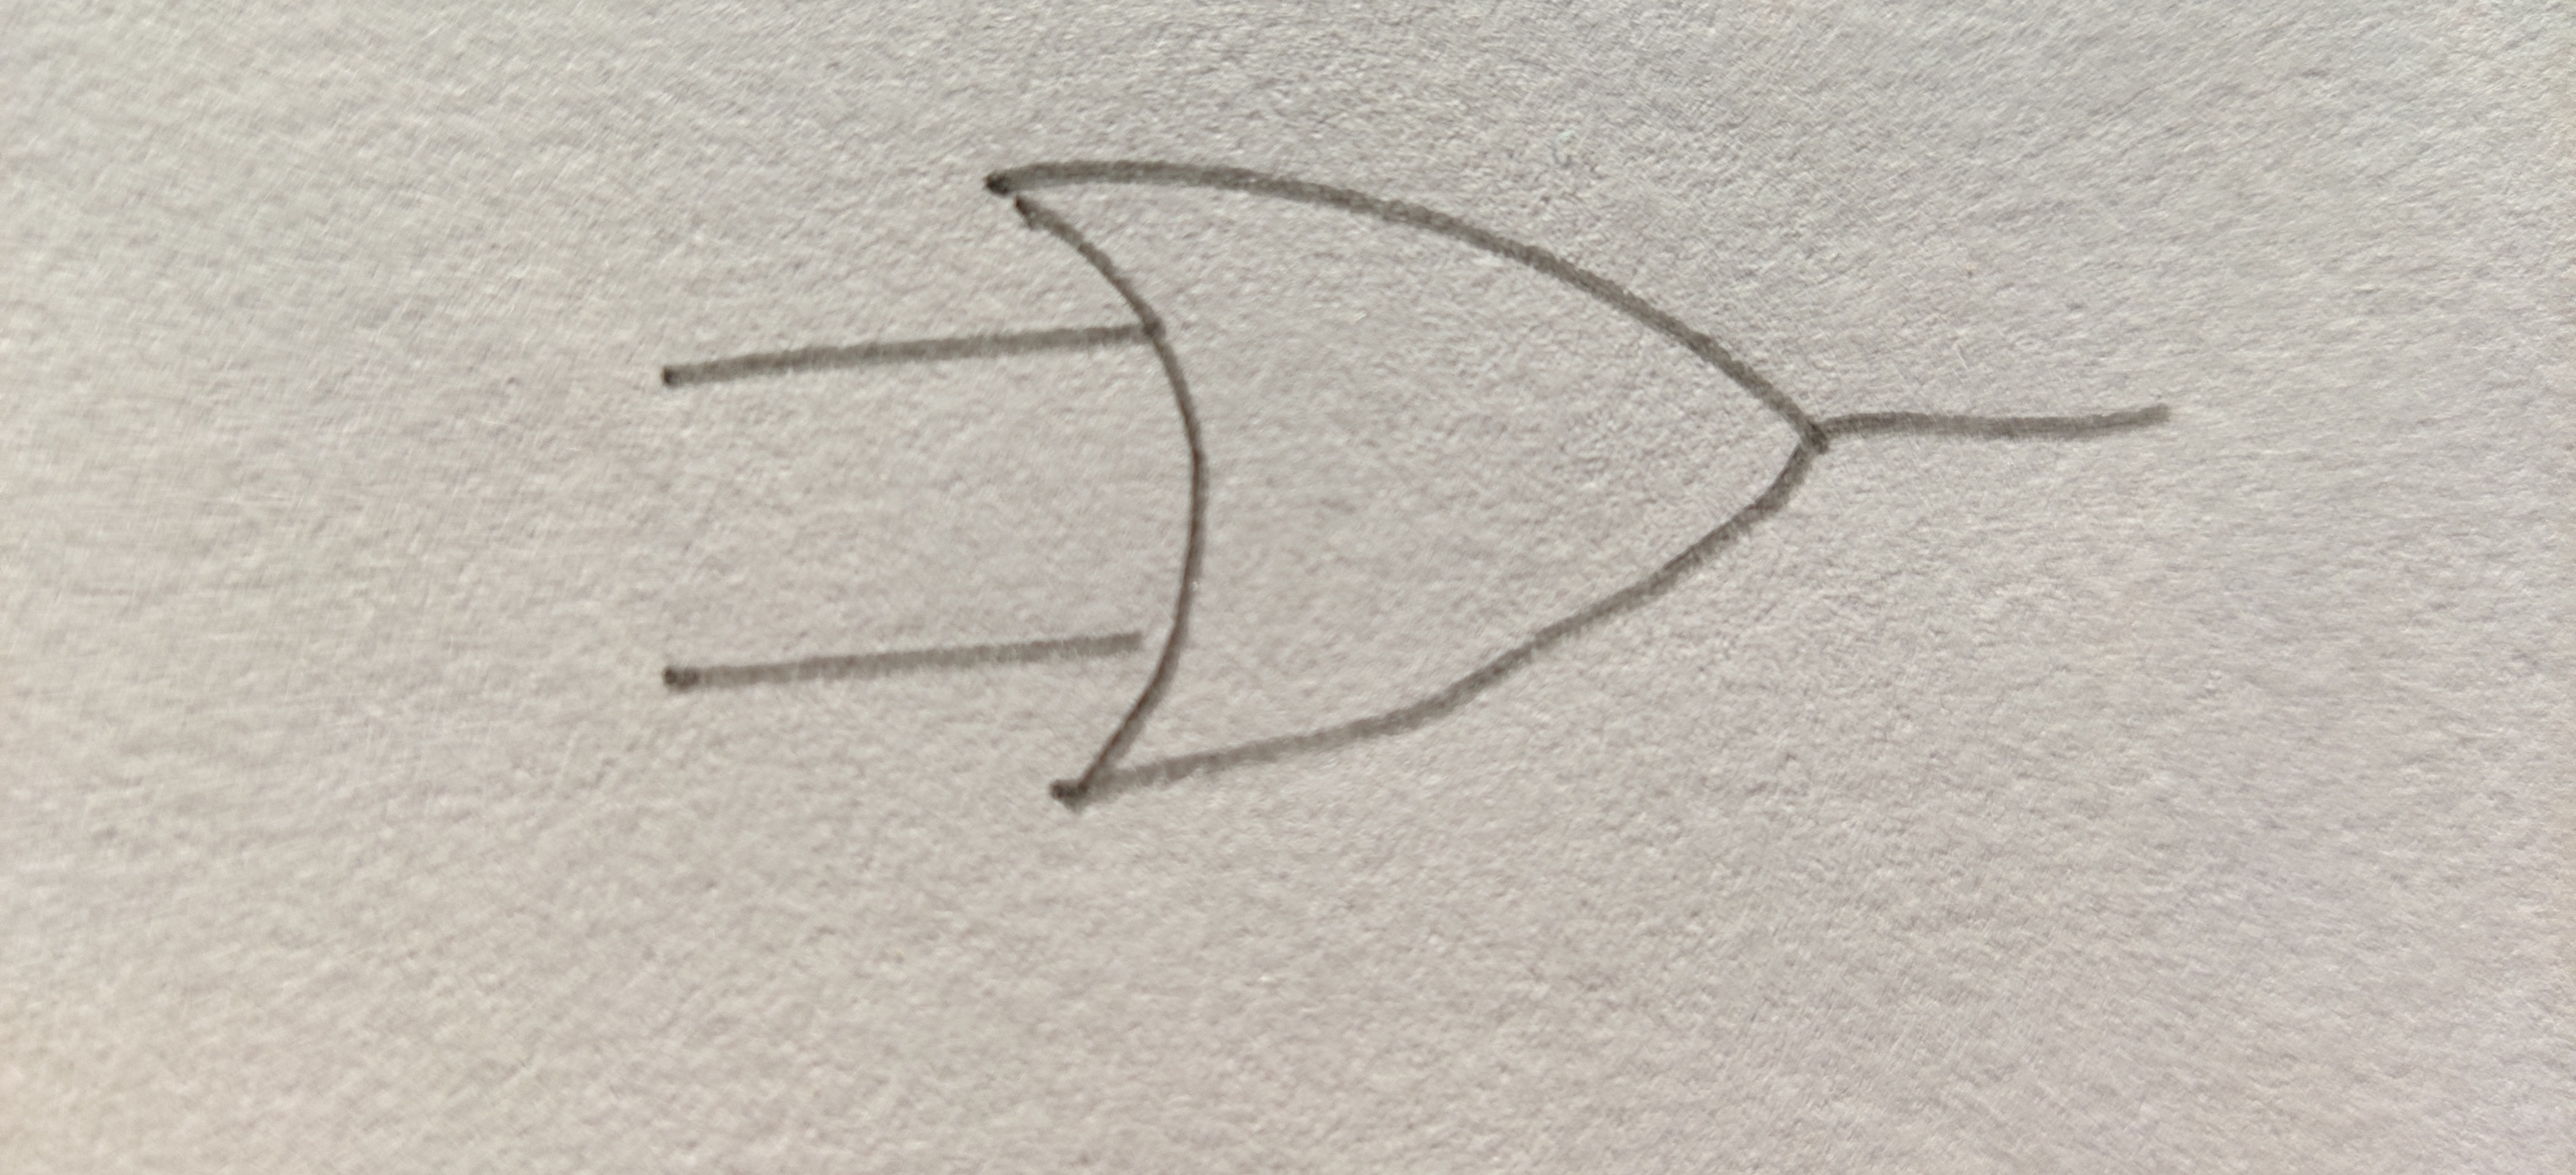or: (1002, 164, 1820, 805)
